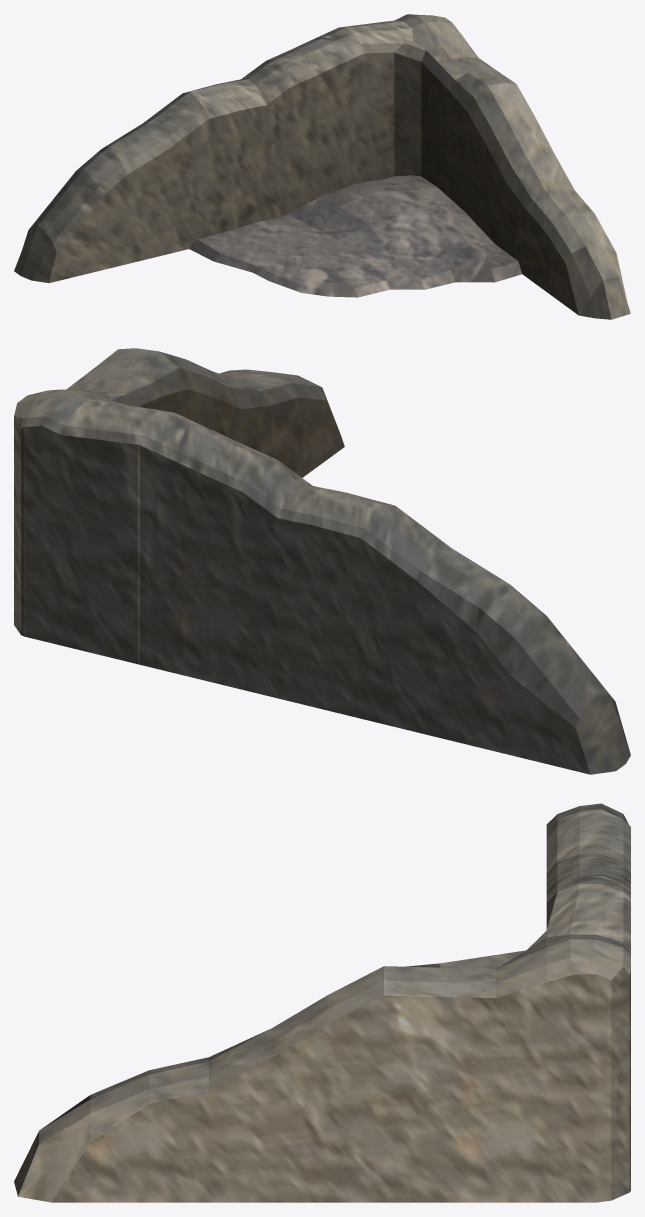
The model's file is stone_wall.glb.
The picture shows the model from 3 angles, top to bottom: view 1: azimuth 30°, elevation 25°; view 2: azimuth 150°, elevation 25°; view 3: azimuth 270°, elevation 25°; orthographic projection. The views are drawn at different scales.
Visible parts, largest first — view 1: stone_wall; view 2: stone_wall; view 3: stone_wall.
Boxes of the visible parts, <box> form: stone_wall: <box>14,14,630,319</box>; stone_wall: <box>14,348,630,774</box>; stone_wall: <box>14,803,630,1202</box>.
Size of what is drawn, in the model's own units: 4.39 by 1.63 by 3.66.
1 material, 1 textured.
